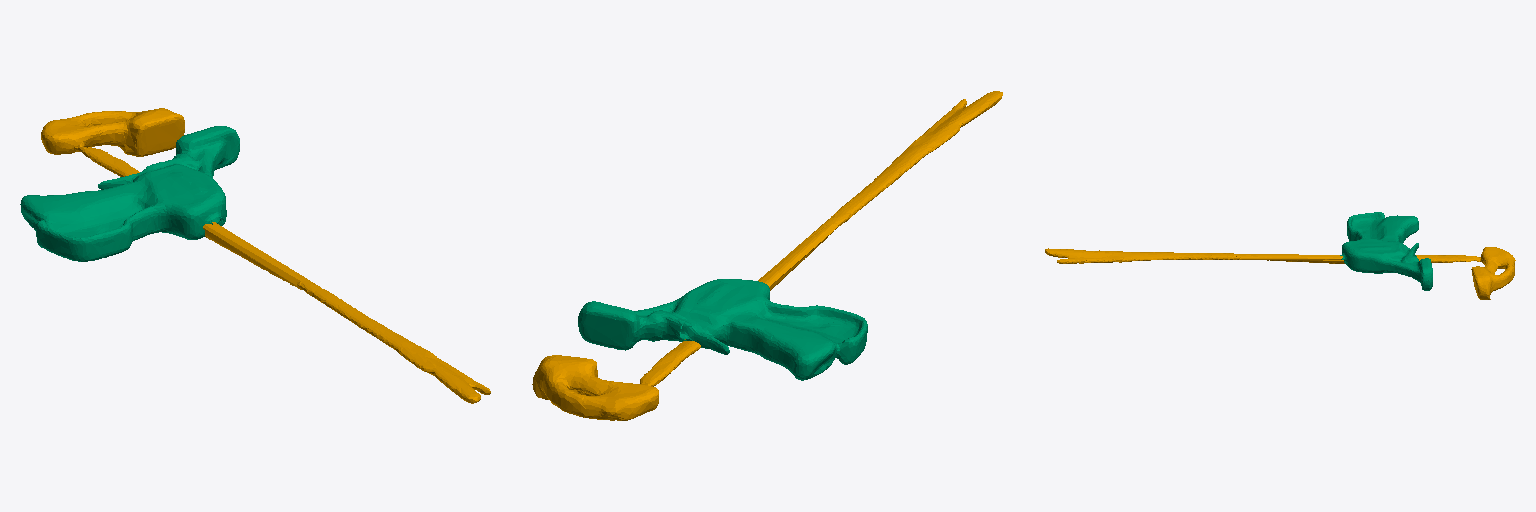
robot.urdf — clamp:
<?xml version="1.0"?>
<robot name="clamp">
  <link name ="rb0">
    <visual>
      <origin xyz='0.107480 0.474926 -0.063109' rpy='-0.307348 -0.069415 -0.293724'/>
      <geometry>
        <mesh filename="meshes/clamp_base.obj"  scale="1 1 1" />
      </geometry>
    </visual>

     <collision>
      <origin xyz='0.107480 0.474926 -0.063109' rpy='-0.307348 -0.069415 -0.293724'/>
      <geometry>
        <mesh filename="meshes/clamp_base.obj"  scale="1 1 1" />
      </geometry>
    </collision>

  </link>
  <joint name="j_0_1" type="prismatic">
    <parent link="rb0"/>
    <child link="rb1"/>
    <origin xyz="-0.0385699605233 0.347915904131 -0.00607227203669" rpy="0 0 0 "/>
    <axis xyz="-0.00391671127753 -0.999974753243 0.00592893321047"/>
    <limit effort="30" velocity="1.0" lower="-3.1416" upper="3.1416"/>
  </joint>
  <joint name="j_0_fixed" type="fixed">
    <parent link="rb1"/>
    <child link="rb1_marker"/>
      <origin xyz="0.0 0.0 0.0" rpy="-3.11678481357 0.00525497544478 0.93229115543"/>
    <limit effort="30" velocity="1.0" lower="-3.1416" upper="3.1416"/>
  </joint>
  <link name ="rb1">
  </link>
  <link name ="rb1_marker">
    <visual>
      <origin xyz='0.096234 0.023585 -0.000930' rpy='2.818620 0.181051 1.328693'/>
      <geometry>
        <mesh filename="meshes/clamp_handle.obj"  scale="1 1 1" />
      </geometry>
    </visual>

     <collision>
      <origin xyz='0.096234 0.023585 -0.000930' rpy='2.818620 0.181051 1.328693'/>
      <geometry>
        <mesh filename="meshes/clamp_handle.obj"  scale="1 1 1" />
      </geometry>
    </collision>

  </link>
</robot>

--- Facts derived from the render (not from the file) ---
3 views of the same robot in one strip: view 1: azimuth 30°, elevation 25°; view 2: azimuth 150°, elevation 25°; view 3: azimuth 270°, elevation 25° (orthographic).
Model clamp with 3 links and 2 joints (1 prismatic, 1 fixed), rooted at rb0, posed every joint at zero.
Visible links, largest first — view 1: rb1_marker, rb0; view 2: rb1_marker, rb0; view 3: rb1_marker, rb0.
Boxes of the visible links, x1,y1,x2,y2 form: rb1_marker: [20, 126, 239, 261]; rb0: [41, 108, 490, 403]; rb1_marker: [578, 279, 867, 380]; rb0: [532, 91, 1002, 420]; rb1_marker: [1340, 212, 1432, 290]; rb0: [1045, 247, 1515, 299].
Size in the robot's own frame: 0.1716 by 0.5059 by 0.0386 metres.
Meshes: 2 distinct files referenced, 2 mesh visuals loaded (2 OBJ).